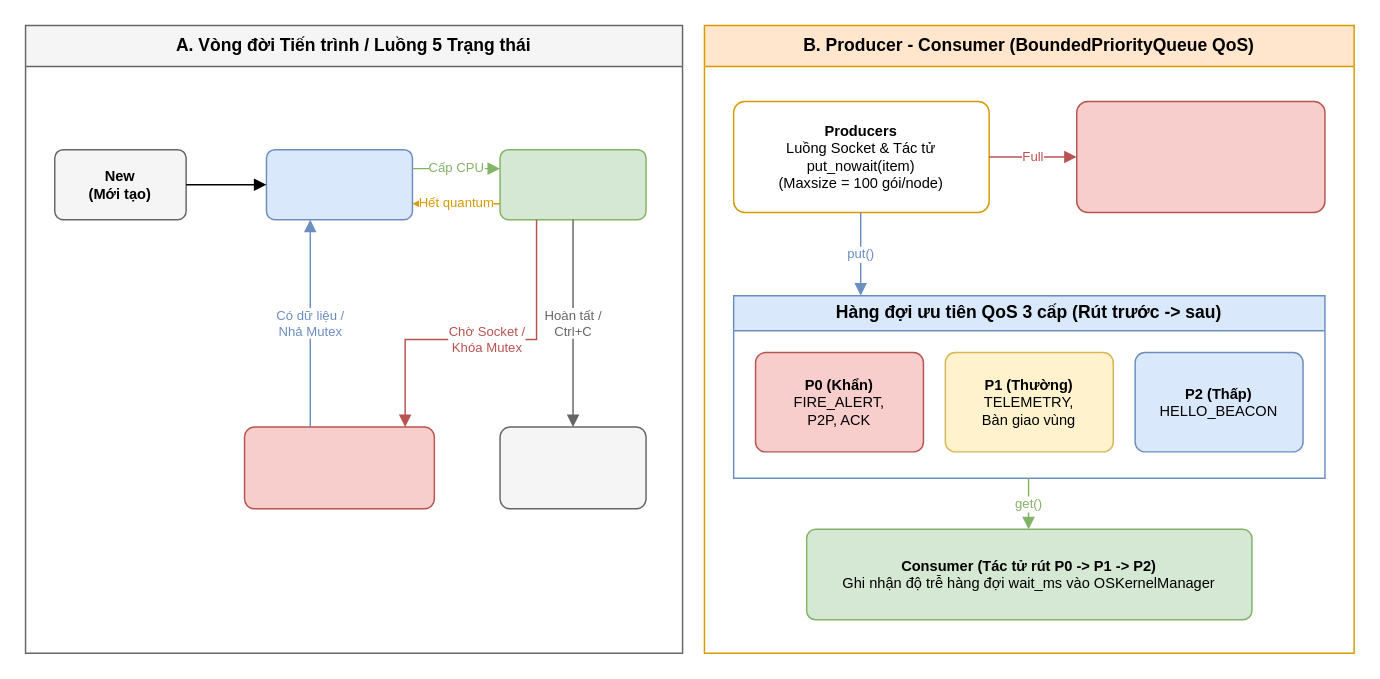
The diagram is 1380 pixels wide and 679 high, and some of its shapes have lost their labels. Here are the shapes that lost their labels. From the top down, the centre of each, then its label:
At (x=1200, y=156): "Buffer Overflow Drop Từ chối gói mới & tăng buffer_drops khi hàng đợi đầy".
At (x=338, y=184): "Ready (Sẵn sàng)".
At (x=572, y=184): "Running (Đang chạy)".
At (x=338, y=467): "Waiting / Blocked (Chờ Socket I/O hoặc Mutex)".
At (x=572, y=467): "Terminated (Kết thúc)".
